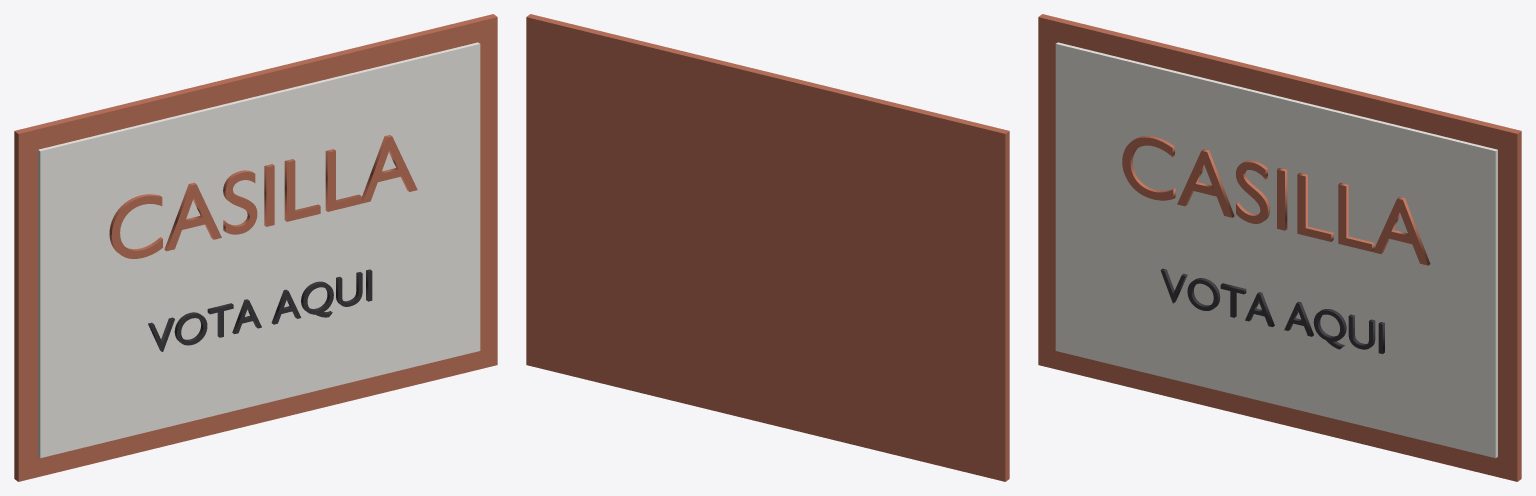
Rendered from Cartel.fbx.
3 renders of one model, left to right at view 1: azimuth 30°, elevation 25°; view 2: azimuth 150°, elevation 25°; view 3: azimuth 330°, elevation 25°, orthographic.
Parts seen in each view (by area): view 1: Cartel; view 2: Cartel; view 3: Cartel.
Part boxes in pixels (box(x1,y1,x2,y2)): Cartel: box(14, 14, 497, 481); Cartel: box(526, 14, 1009, 481); Cartel: box(1038, 14, 1521, 481).
Size of the model in its own units: 0.98 by 0.68 by 0.0315.
